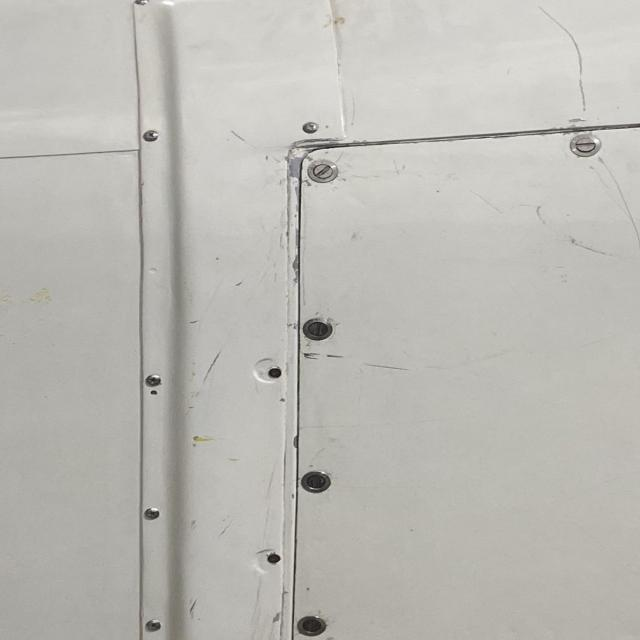Paint-off: (268, 611, 284, 624), (565, 116, 588, 125)
Scratch: (537, 153, 640, 258), (535, 6, 605, 122)
